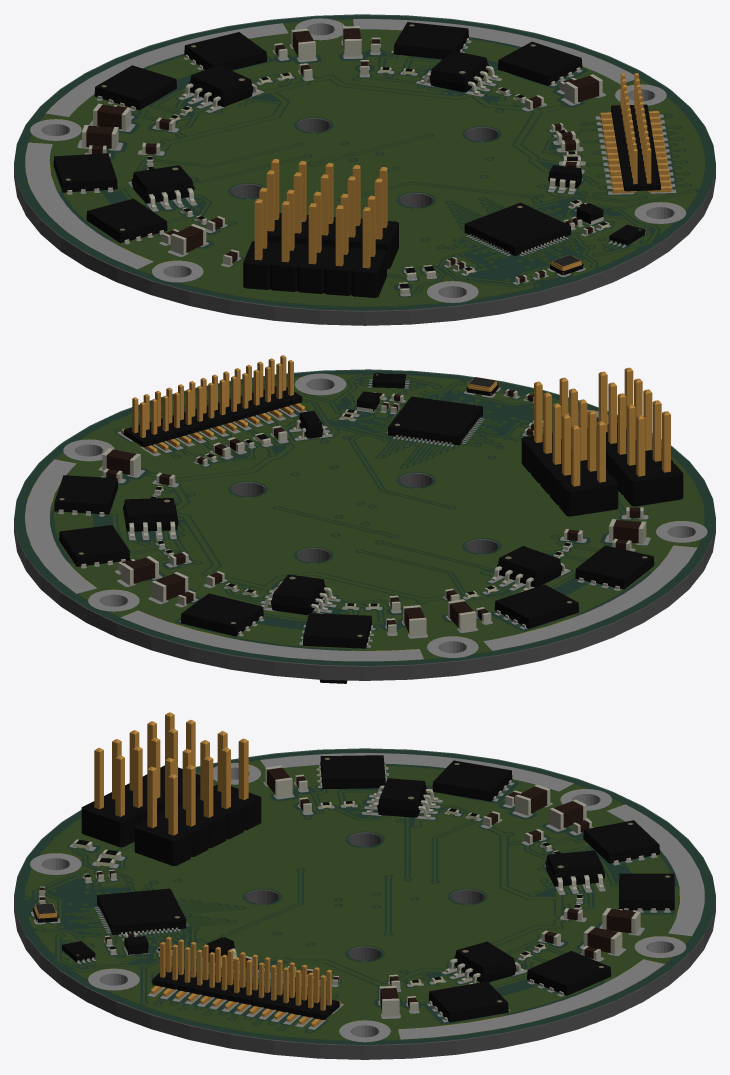
3 views of the same model, one above another, from view 1: azimuth 30°, elevation 25°; view 2: azimuth 150°, elevation 25°; view 3: azimuth 270°, elevation 25° (orthographic).
Visible parts, largest first — view 1: servodrive_A_soldermask, servodrive_A_copper, servodrive_A_PCB, servodrive_A_pad, PinHeader_2x05_P2.54mm_Vertical (×2), TDSON-8-1 (×6), SOIC-8_3.9x4.9mm_P1.27mm (×3), PinHeader_2x14_P1.27mm_Vertical_SMD, C_1206_3216Metric (×6), QFN-56-1EP_7x7mm_P0.4mm_EP5.6x5.6mm, SOT-23-5, Winbond_USON-8-1EP_3x2mm_P0.5mm_EP0.2x1.6mm; view 2: servodrive_A_soldermask, servodrive_A_copper, servodrive_A_PCB, servodrive_A_pad, PinHeader_2x05_P2.54mm_Vertical (×2), TDSON-8-1 (×6), PinHeader_2x14_P1.27mm_Vertical_SMD, SOIC-8_3.9x4.9mm_P1.27mm (×3), C_1206_3216Metric (×6), QFN-56-1EP_7x7mm_P0.4mm_EP5.6x5.6mm, SOT-23-5; view 3: servodrive_A_soldermask, servodrive_A_copper, servodrive_A_PCB, servodrive_A_pad, PinHeader_2x05_P2.54mm_Vertical (×2), TDSON-8-1 (×6), PinHeader_2x14_P1.27mm_Vertical_SMD, SOIC-8_3.9x4.9mm_P1.27mm (×3), C_1206_3216Metric (×6), QFN-56-1EP_7x7mm_P0.4mm_EP5.6x5.6mm.
Boxes of the visible parts, x1,y1,x2,y2 form: servodrive_A_soldermask: (14,14,715,310); servodrive_A_copper: (27,20,704,306); servodrive_A_PCB: (14,15,715,325); servodrive_A_pad: (25,18,686,302); PinHeader_2x05_P2.54mm_Vertical (×2): (243,159,398,297); TDSON-8-1 (×6): (53,22,582,243); SOIC-8_3.9x4.9mm_P1.27mm (×3): (130,51,498,209); PinHeader_2x14_P1.27mm_Vertical_SMD: (599,73,672,193); C_1206_3216Metric (×6): (82,26,602,254); QFN-56-1EP_7x7mm_P0.4mm_EP5.6x5.6mm: (464,202,570,255); SOT-23-5: (548,165,582,192); Winbond_USON-8-1EP_3x2mm_P0.5mm_EP0.2x1.6mm: (609,224,644,245); servodrive_A_soldermask: (14,369,715,665); servodrive_A_copper: (25,375,703,661); servodrive_A_PCB: (14,371,715,680); servodrive_A_pad: (25,373,707,661); PinHeader_2x05_P2.54mm_Vertical (×2): (521,367,683,516); TDSON-8-1 (×6): (54,475,654,648); PinHeader_2x14_P1.27mm_Vertical_SMD: (121,355,304,453); SOIC-8_3.9x4.9mm_P1.27mm (×3): (123,498,567,615); C_1206_3216Metric (×6): (102,448,646,636); QFN-56-1EP_7x7mm_P0.4mm_EP5.6x5.6mm: (388,396,482,445); SOT-23-5: (293,411,328,439); servodrive_A_soldermask: (14,748,715,1044); servodrive_A_copper: (24,753,690,1040); servodrive_A_PCB: (14,750,715,1059); servodrive_A_pad: (30,753,704,1042); PinHeader_2x05_P2.54mm_Vertical (×2): (81,712,261,865); TDSON-8-1 (×6): (319,755,674,1022); PinHeader_2x14_P1.27mm_Vertical_SMD: (151,936,340,1027); SOIC-8_3.9x4.9mm_P1.27mm (×3): (366,778,604,984); C_1206_3216Metric (×6): (265,765,640,1016); QFN-56-1EP_7x7mm_P0.4mm_EP5.6x5.6mm: (97,888,186,934).
Bounding box in the file's own units: 0.065 × 0.012 × 0.065.
